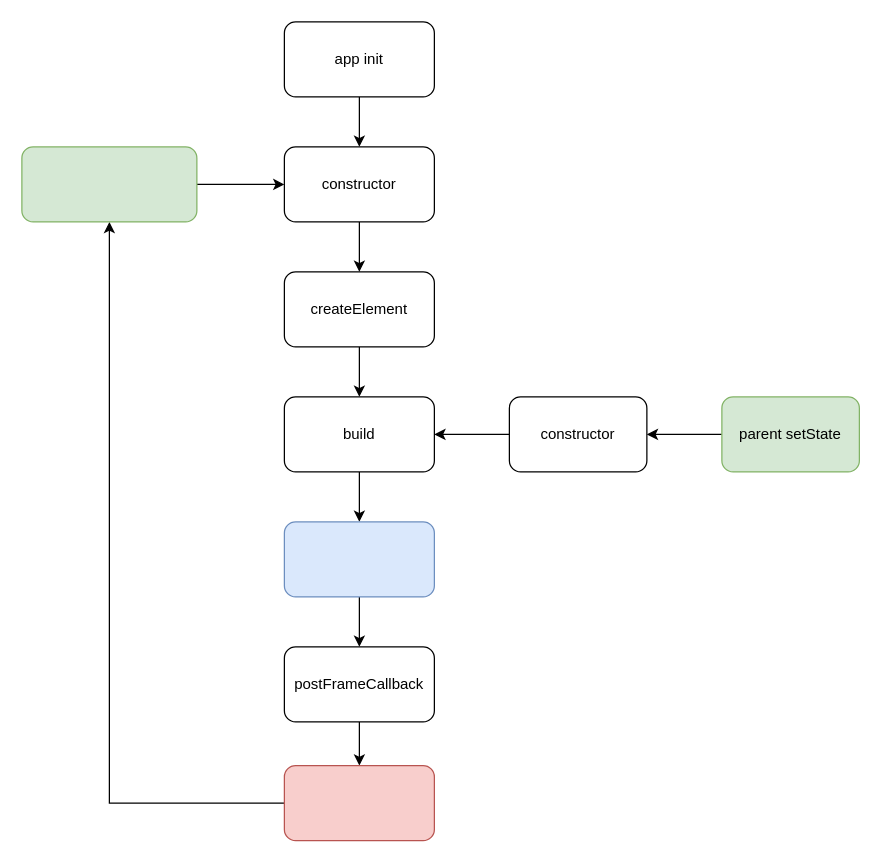
The diagram is 881 pixels wide and 863 high, and some of its shapes have lost their labels. Each missing label, with the centre of its shape:
destory: (358,802)
init again after destory: (109,184)
render: (358,559)
